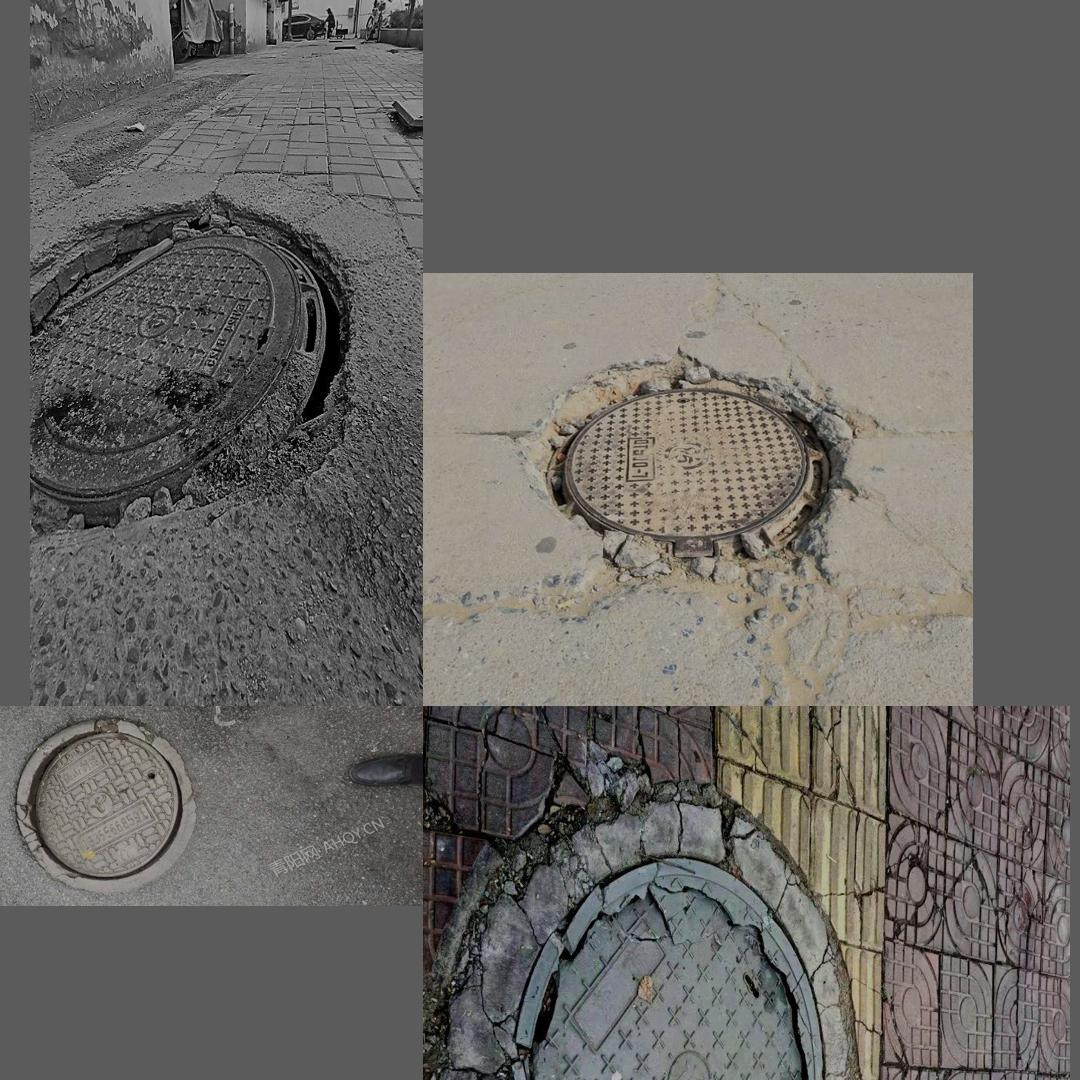circle: (30, 173, 370, 633), (448, 785, 867, 1080), (503, 350, 877, 590), (0, 714, 211, 898)
